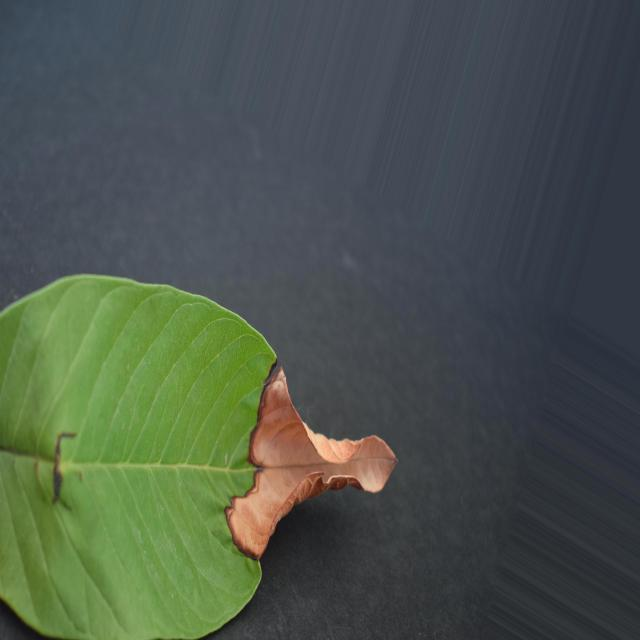Mummification: (0, 276, 396, 638)
